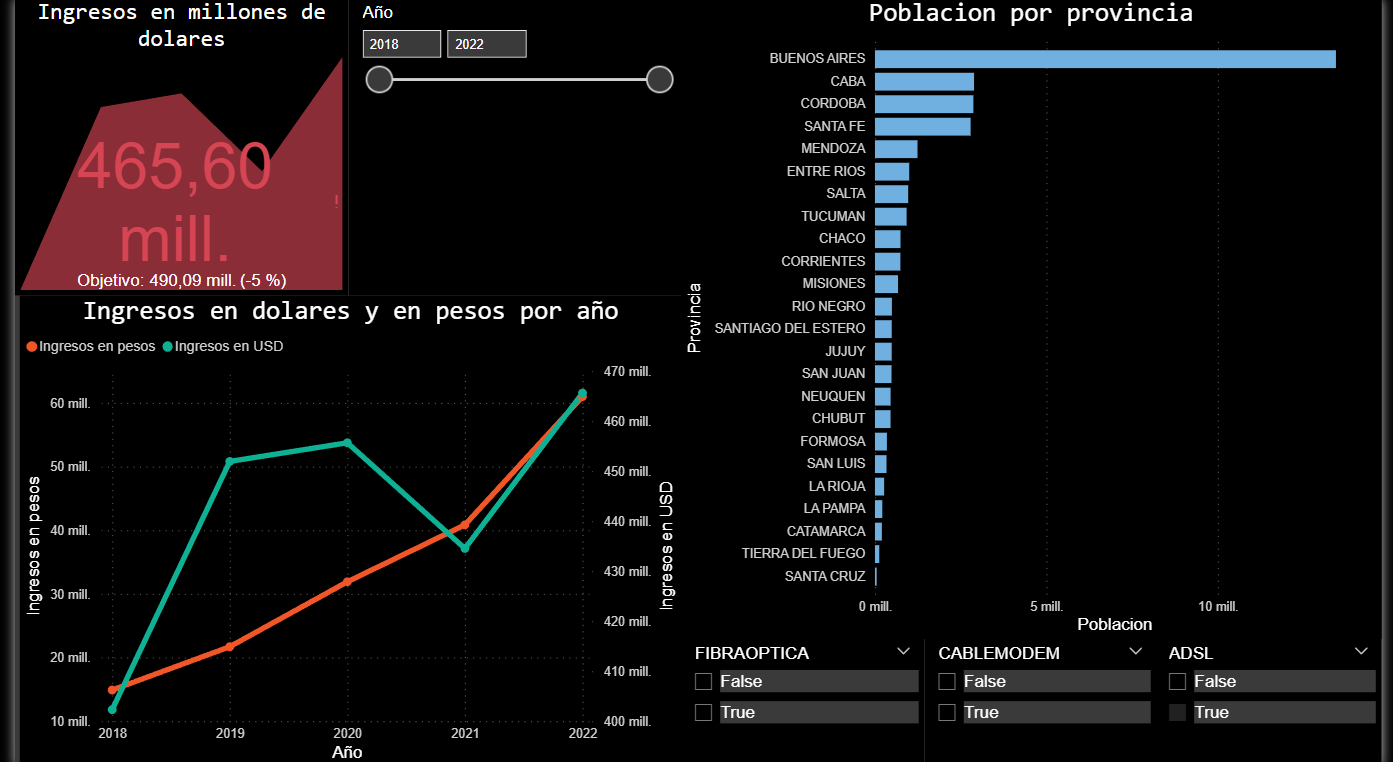

The page's visual inventory and layout, read from the dashboard file:
{"tool":"powerbi","page":{"name":"Page 4","canvas":[1280,720],"ordinal":4},"visuals":[{"type":"kpi","title":"Ingresos en millones de dolares","fields":{"TrendLine":["KPI_4_ingresos.Año"],"Indicator":["Max(KPI_4_ingresos.ingresosUSD)"],"Goal":["KPI_4_ingresos.ganancias"]},"box":[0,0,311.9,278.6],"z":0},{"type":"slicer","fields":{"Values":["KPI_4_ingresos.Año"]},"box":[311.9,0,311.9,278.6],"z":1000},{"type":"lineChart","title":"Ingresos en dolares y en pesos por año","fields":{"Category":["KPI_4_ingresos.Año"],"Y":["Sum(KPI_4_ingresos.ingresospesos)"],"Y2":["Sum(KPI_4_ingresos.ingresosUSD)"]},"box":[4.5,278.6,619.3,440.6],"z":2000},{"type":"clusteredBarChart","title":"Poblacion por provincia","fields":{"Category":["K_mapaconectividad_fija_movil.Provincia"],"Y":["Sum(K_mapaconectividad_fija_movil.Poblacion)"]},"box":[623.9,0,655.7,599.6],"z":3000},{"type":"slicer","fields":{"Values":["K_mapaconectividad_fija_movil.FIBRAOPTICA"]},"box":[623.9,599.6,227.1,119.6],"z":4000},{"type":"slicer","fields":{"Values":["K_mapaconectividad_fija_movil.CABLEMODEM"]},"box":[851,599.6,216.5,119.6],"z":5000},{"type":"slicer","fields":{"Values":["K_mapaconectividad_fija_movil.ADSL"]},"box":[1067.5,599.6,212,119.6],"z":6000}]}

Visuals, with their boxes in screenshot pixels (x1, y1, x2, y2), scaled from the page's 1280x720 canvas onto the 1393x762 screenshot:
"Ingresos en millones de dolares" kpi: x1=0, y1=0, x2=339, y2=295
slicer - KPI_4_ingresos.Año: x1=339, y1=0, x2=679, y2=295
"Ingresos en dolares y en pesos por año" lineChart: x1=5, y1=295, x2=679, y2=761
"Poblacion por provincia" clusteredBarChart: x1=679, y1=0, x2=1392, y2=635
slicer - K_mapaconectividad_fija_movil.FIBRAOPTICA: x1=679, y1=635, x2=926, y2=761
slicer - K_mapaconectividad_fija_movil.CABLEMODEM: x1=926, y1=635, x2=1162, y2=761
slicer - K_mapaconectividad_fija_movil.ADSL: x1=1162, y1=635, x2=1392, y2=761
